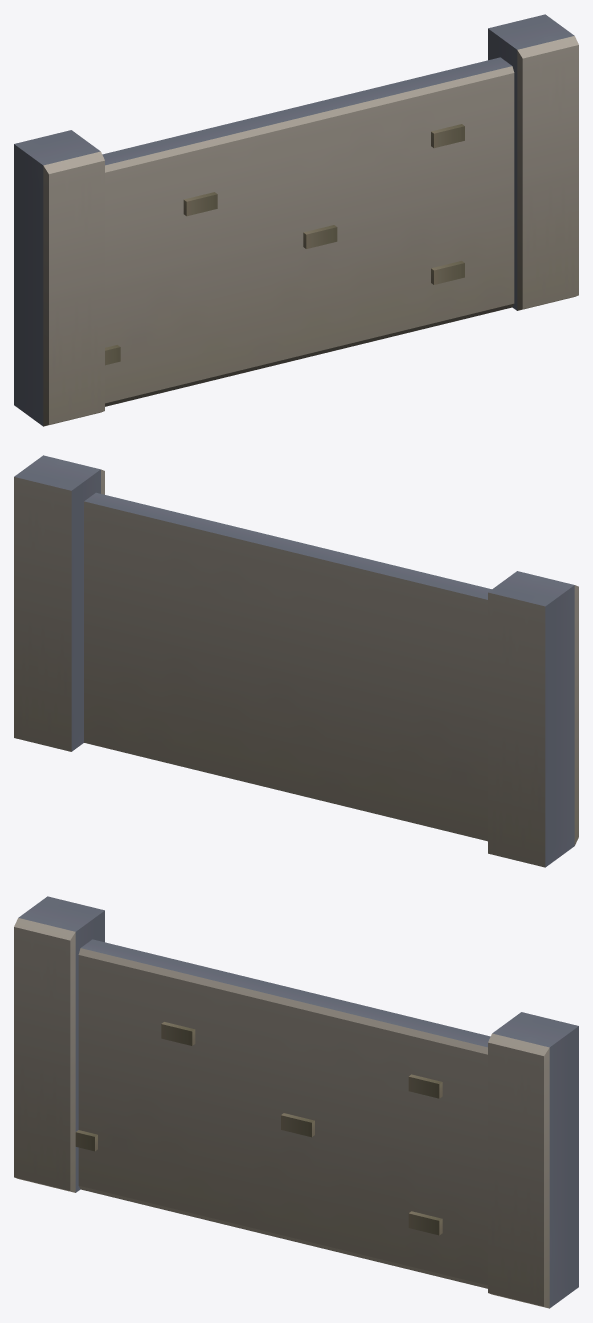
Rendered from Wall_beam.fbx.
The picture shows the model from 3 angles, top to bottom: view 1: azimuth 30°, elevation 25°; view 2: azimuth 150°, elevation 25°; view 3: azimuth 330°, elevation 25°; orthographic projection.
Parts seen in each view (by area): view 1: wall, Beam; view 2: wall, Beam; view 3: wall, Beam.
Boxes of the visible parts, x1=… form: wall: x1=14, y1=57, x2=514, y2=426; Beam: x1=488, y1=14, x2=578, y2=310; wall: x1=84, y1=492, x2=578, y2=867; Beam: x1=14, y1=455, x2=104, y2=751; wall: x1=14, y1=896, x2=490, y2=1288; Beam: x1=488, y1=1012, x2=578, y2=1308.
Size of the model in its own units: 621 by 291 by 69.23.
